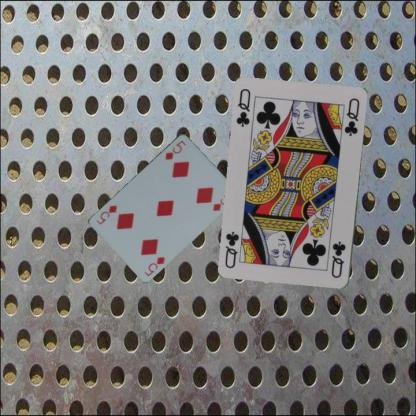5d: (142, 252, 166, 277), (162, 138, 188, 160)
Qc: (328, 239, 348, 280), (234, 86, 252, 128)
